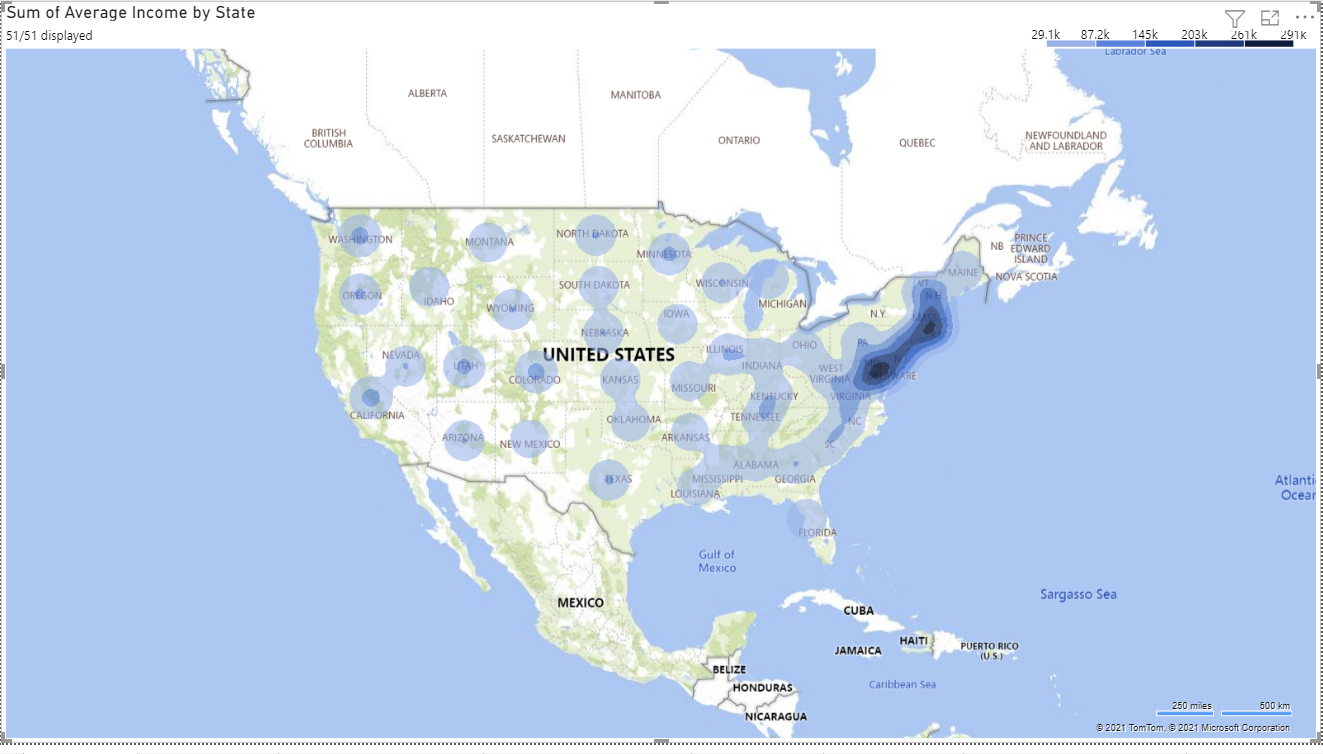

The dashboard page shown, as its layout file describes it:
{"tool":"powerbi","page":{"name":"HeatMap","canvas":[1280,720],"ordinal":0},"visuals":[{"type":"heatmapF244EA9EE1F34E828A80CF19B41976F8","fields":{"location":["Avg Income by State.State"],"value":["Sum(Avg Income by State.Average Income)"]},"box":[0,0,1280,720],"z":0}]}

Visuals, with their boxes in screenshot pixels (x1, y1, x2, y2), scaled from the page's 1280x720 canvas onto the 1323x754 screenshot:
heatmapF244EA9EE1F34E828A80CF19B41976F8 - Avg Income by State.State x Sum(Avg Income by State.Average Income): bbox(0, 0, 1322, 753)
